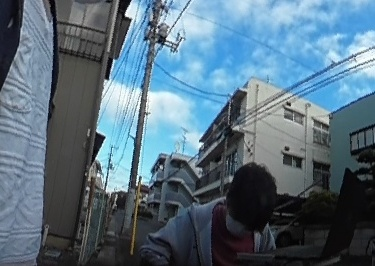person: (152, 158, 280, 266)
